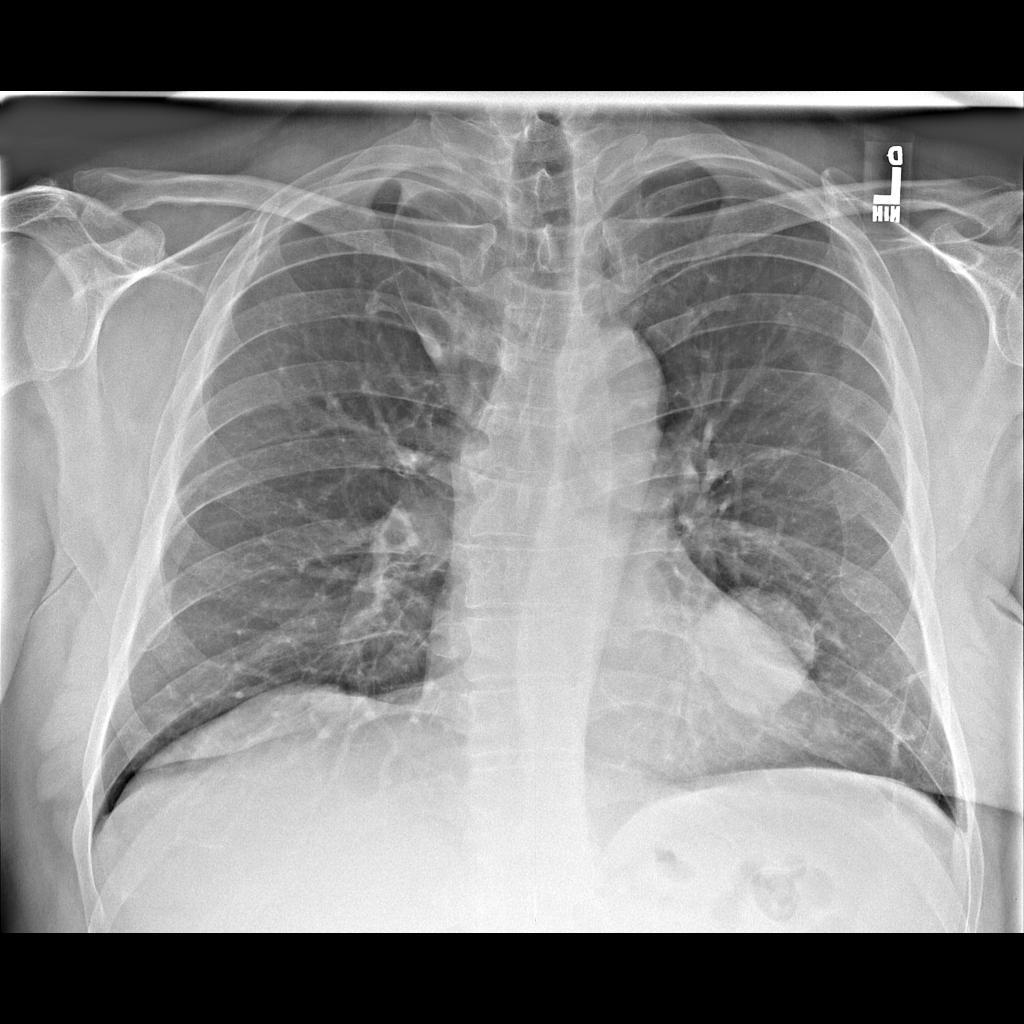Nodule: (678, 574, 832, 733)
